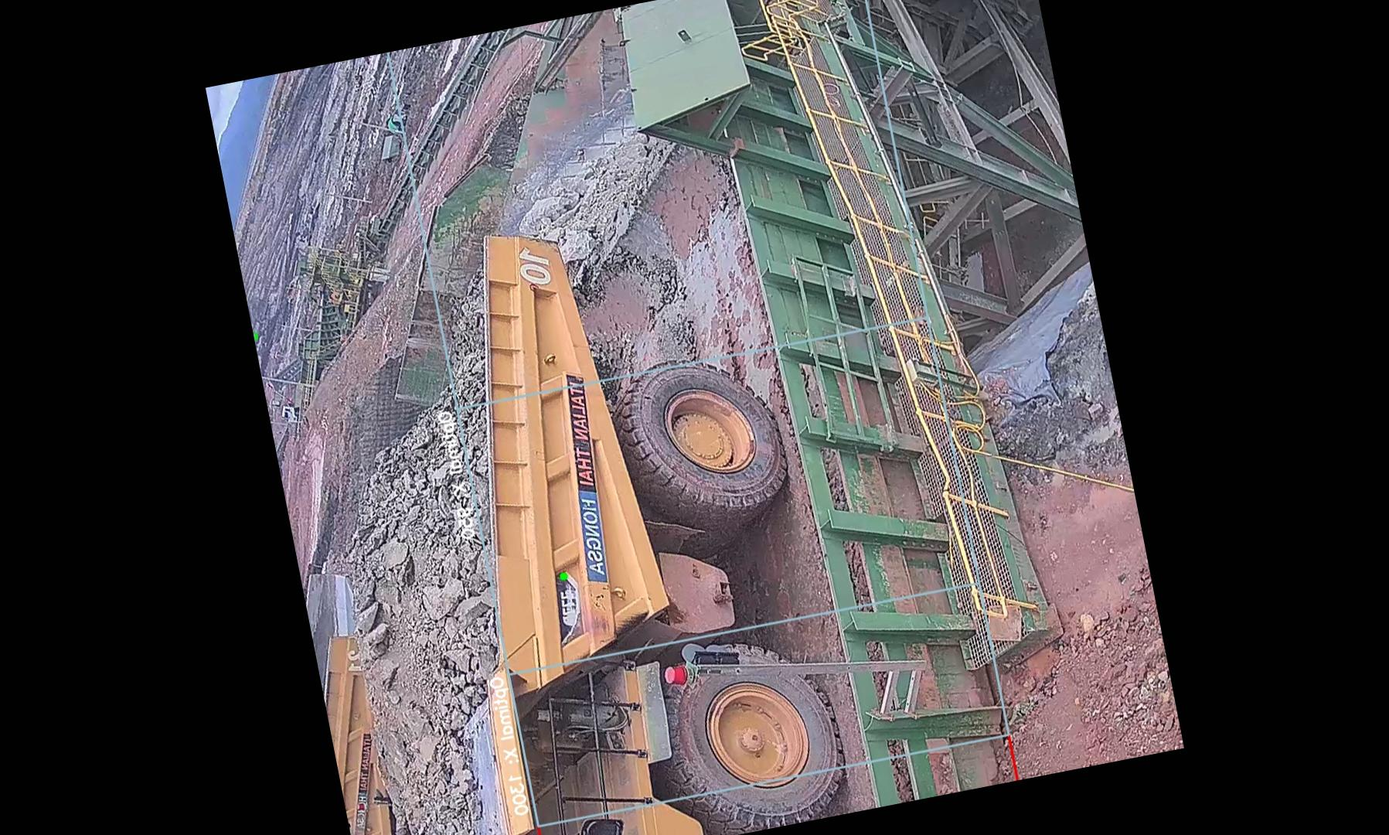company: (545, 362, 629, 596)
full_load: (312, 395, 534, 726)
mining_truck: (260, 176, 845, 835)
tail_number: (509, 241, 563, 298)
truck_size: (545, 564, 591, 642)
